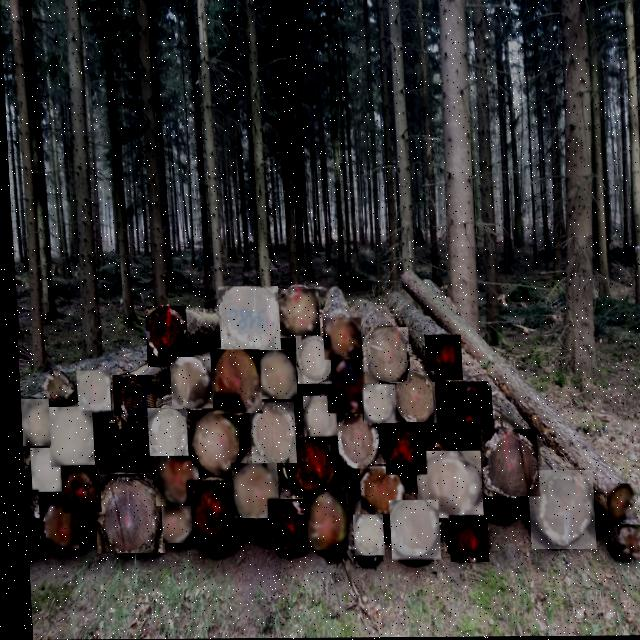wood-log: (88, 474, 160, 554), (522, 471, 591, 550), (428, 382, 490, 459), (411, 451, 478, 519), (215, 287, 277, 353), (476, 430, 534, 497), (206, 350, 258, 414), (186, 412, 235, 476), (283, 437, 336, 496), (383, 501, 435, 561), (182, 481, 230, 545), (245, 402, 292, 464), (44, 407, 90, 467), (358, 328, 407, 384), (332, 414, 381, 469), (226, 463, 274, 519), (142, 306, 186, 367), (322, 359, 370, 413), (108, 375, 153, 431), (300, 493, 343, 551), (354, 465, 400, 515), (149, 456, 195, 506), (389, 372, 432, 424), (166, 357, 209, 409), (379, 423, 421, 475), (96, 423, 139, 473), (275, 289, 317, 338), (253, 350, 293, 400), (143, 408, 184, 456), (262, 500, 302, 548), (443, 516, 483, 563), (56, 466, 96, 512), (421, 335, 459, 381), (292, 336, 328, 384), (319, 318, 359, 360), (298, 396, 334, 442), (38, 503, 73, 549), (25, 448, 60, 492), (72, 371, 107, 413), (16, 399, 46, 446), (359, 385, 393, 424), (348, 515, 379, 556), (156, 506, 188, 543), (601, 484, 631, 521), (612, 525, 640, 562), (20, 490, 35, 540)
